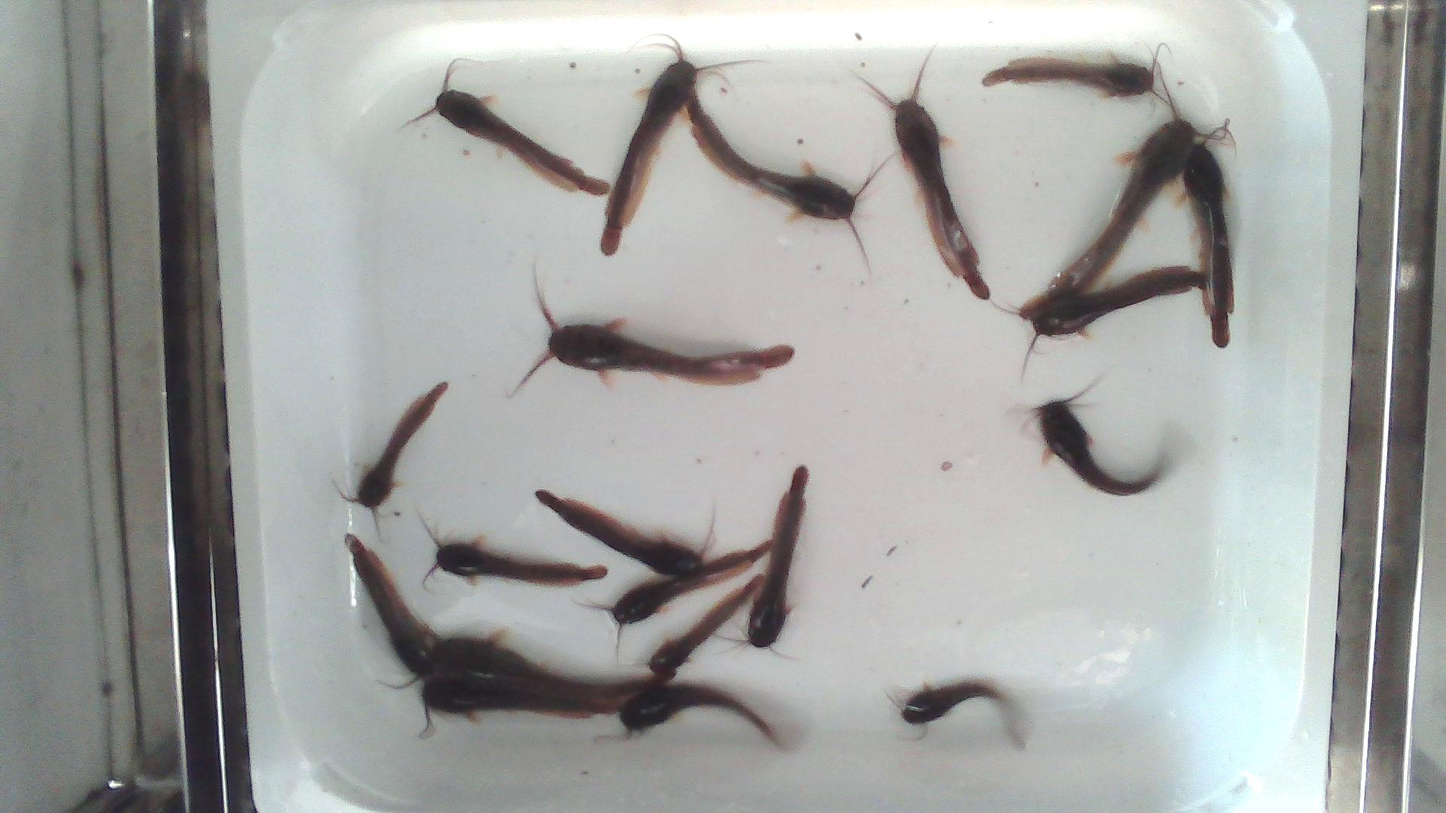lele: (1044, 90, 1221, 292), (535, 490, 780, 623), (688, 96, 856, 219), (894, 98, 989, 299), (545, 307, 794, 383), (436, 90, 609, 195), (601, 61, 695, 254), (418, 667, 660, 730), (345, 532, 441, 685), (535, 491, 703, 576), (1021, 266, 1206, 335), (351, 382, 447, 508), (650, 576, 763, 682), (1038, 401, 1161, 495), (746, 465, 808, 647), (426, 627, 593, 689), (1184, 146, 1234, 347), (618, 682, 778, 744), (900, 678, 1025, 748), (983, 58, 1154, 97), (437, 543, 607, 580)
